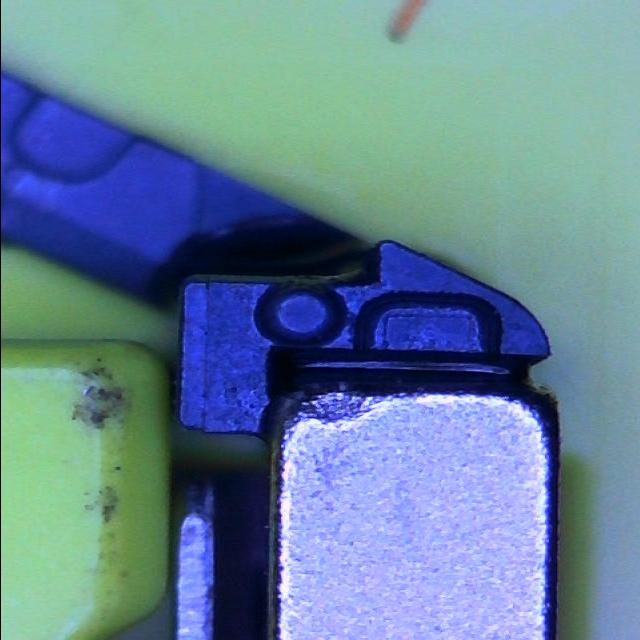good: (351, 292, 505, 362)
